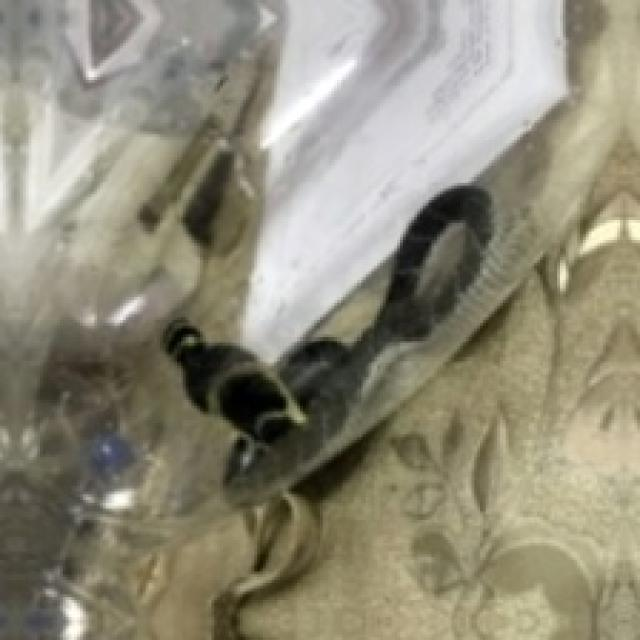king cobra: (165, 185, 542, 640), (469, 314, 499, 349)
